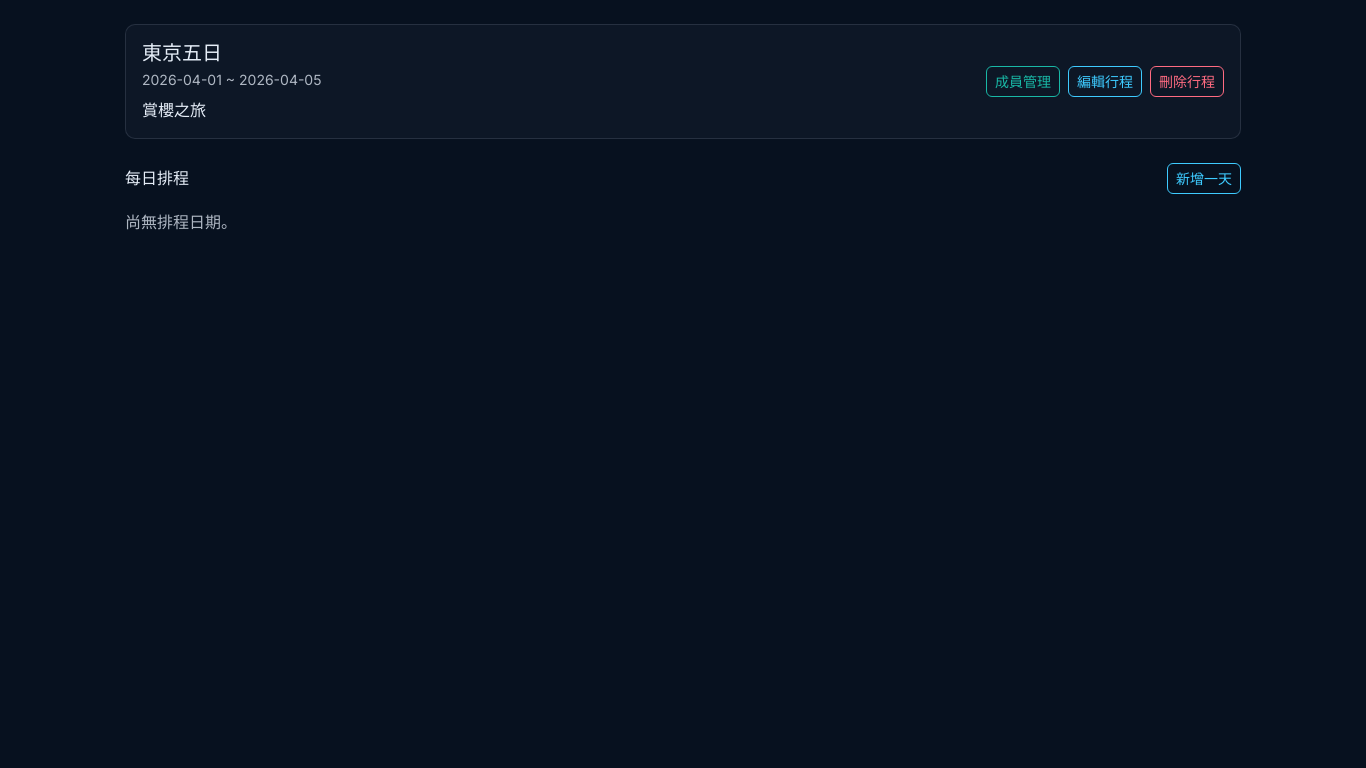
Test case: TripDetailPage › 編輯與刪除行程 › owner 編輯標題後 PATCH 並於畫面反映新標題
Click the button "編輯行程" at (1105, 82), box [1068,66,1142,97]
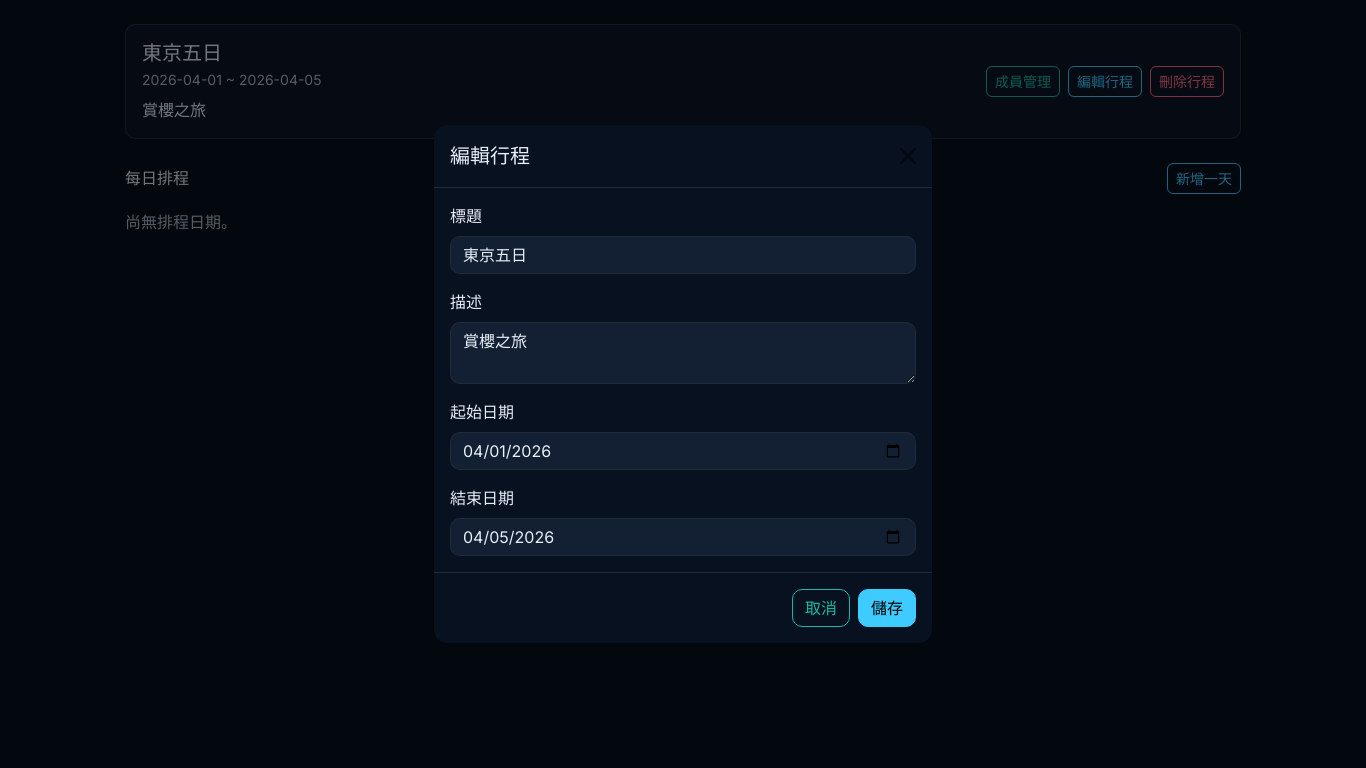
Replace the text in the field labelled "標題" with "東京七日" at (683, 255), box [450,236,916,274]
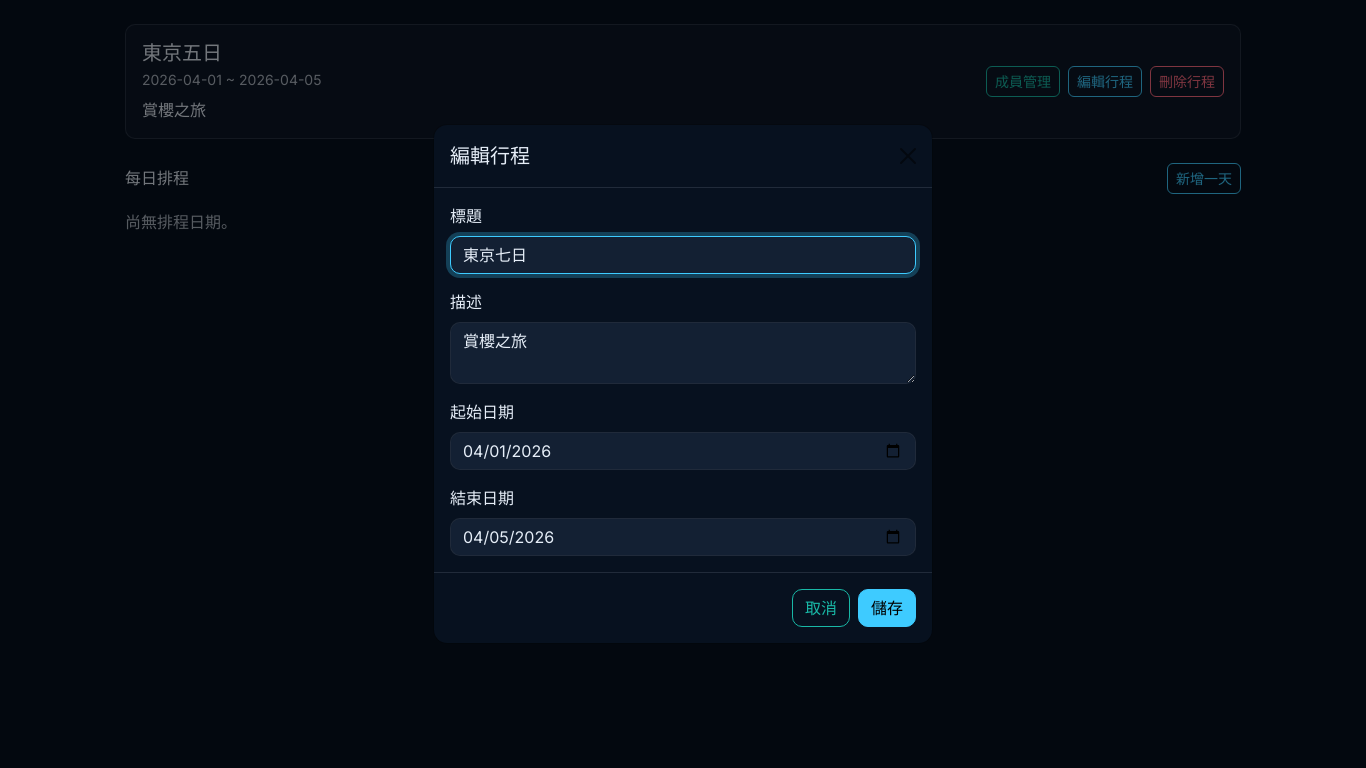
Click the button "儲存" at (887, 608), box [858,589,916,627]
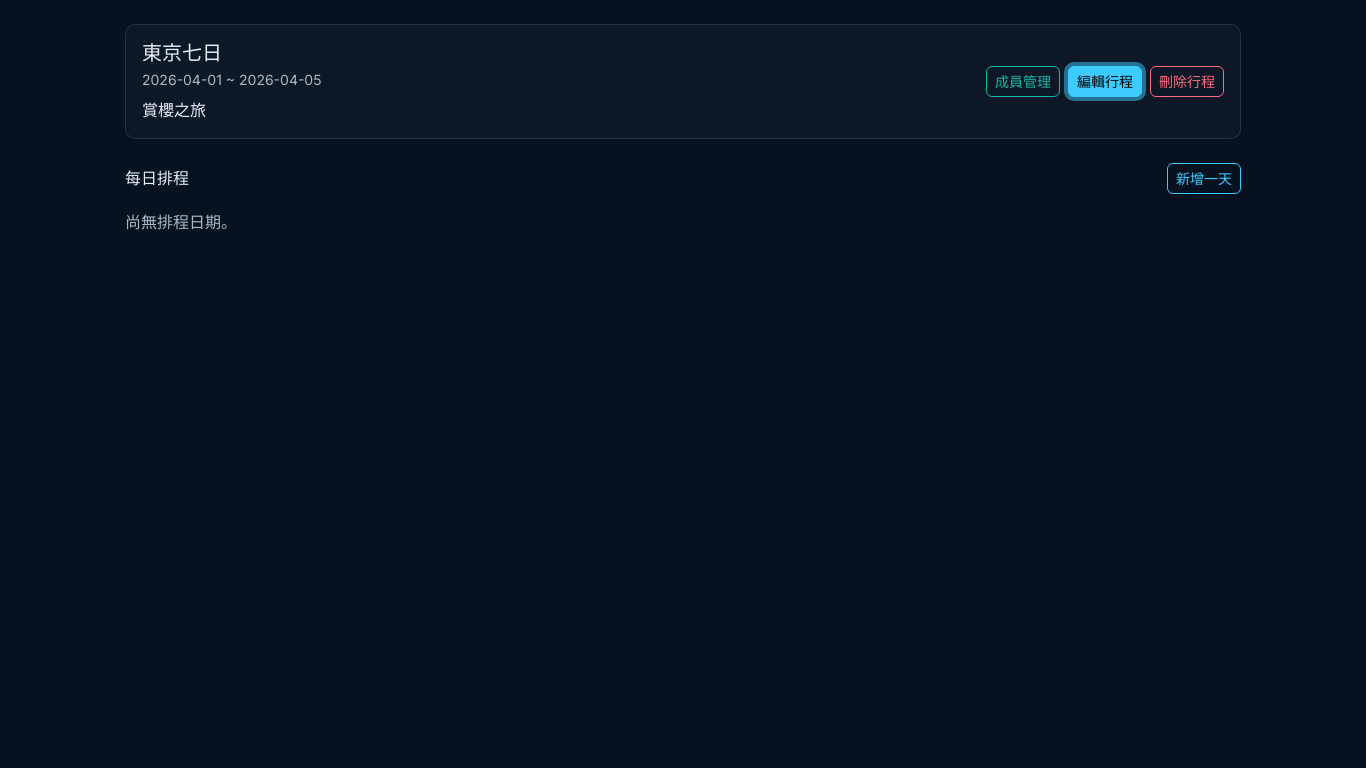
Expected: the heading "東京七日" is shown, [142,41,222,65]
